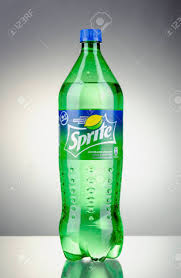sprite_bottle: (54, 28, 124, 262)
